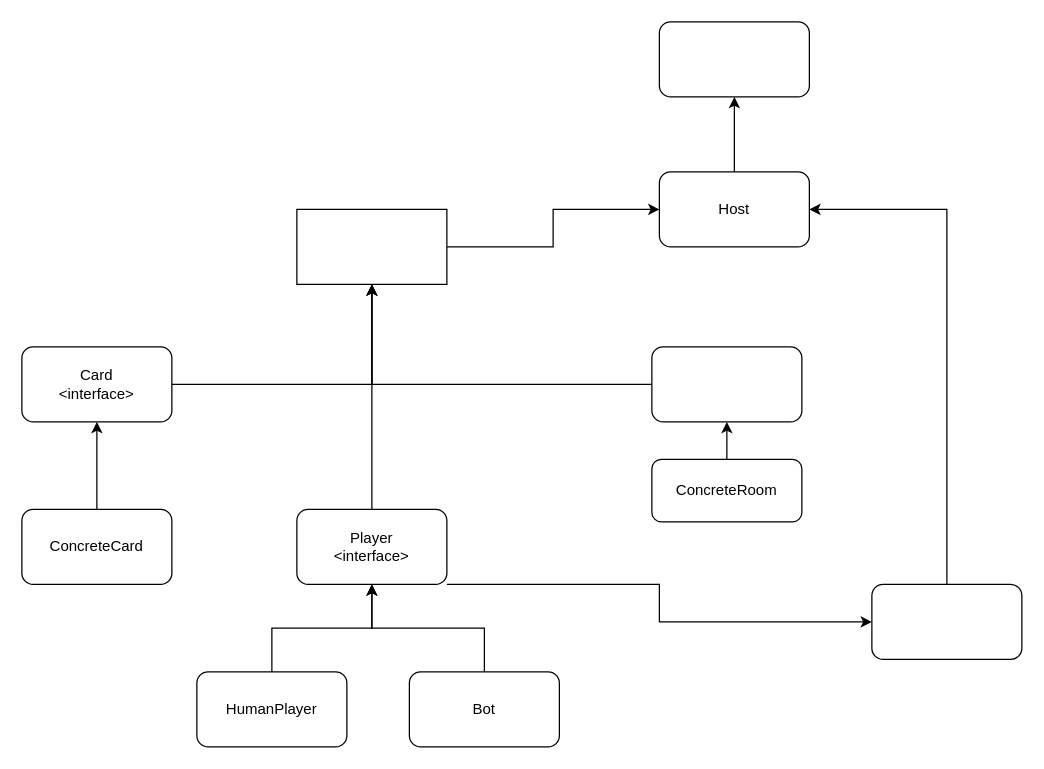
Some shapes in this 1044 by 769 pixel diagram are drawn without their labels. Here are the shapes that lost their labels. From the top down, the centre of each, then its label:
(x=733, y=59): Server
(x=371, y=246): Board
(x=726, y=384): Room <interface>
(x=946, y=621): ChatRoom
